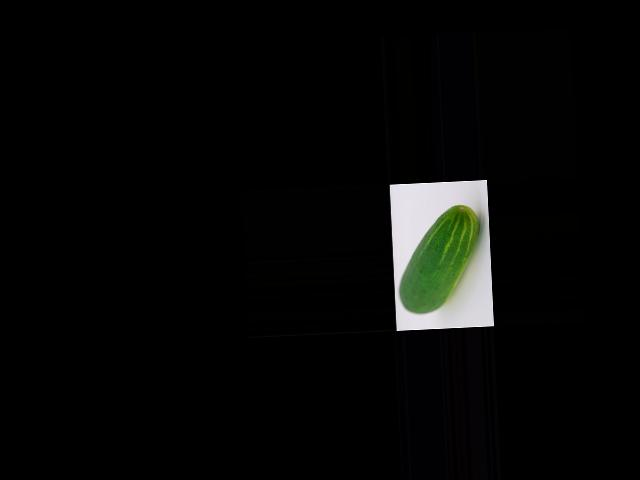cucumber: (395, 204, 483, 315)
